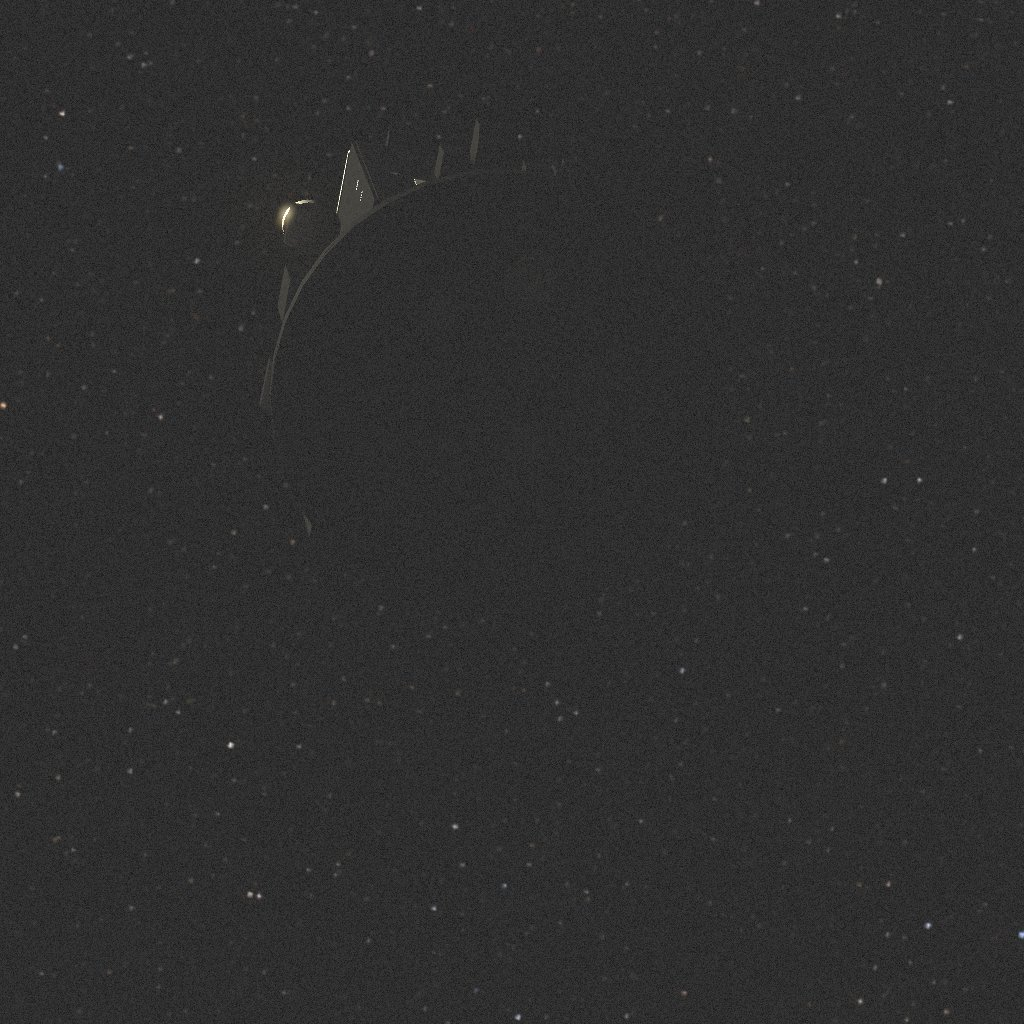proba_3_ocs: (260, 118, 725, 619)
